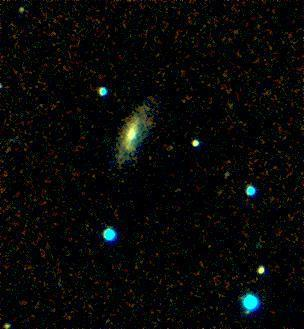star: (226, 298, 256, 328)
